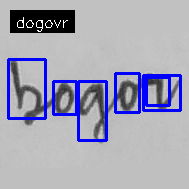b: (8, 57, 45, 126)
g: (77, 80, 109, 146)
o: (51, 79, 76, 117), (115, 77, 139, 112)
r: (140, 70, 168, 112)
